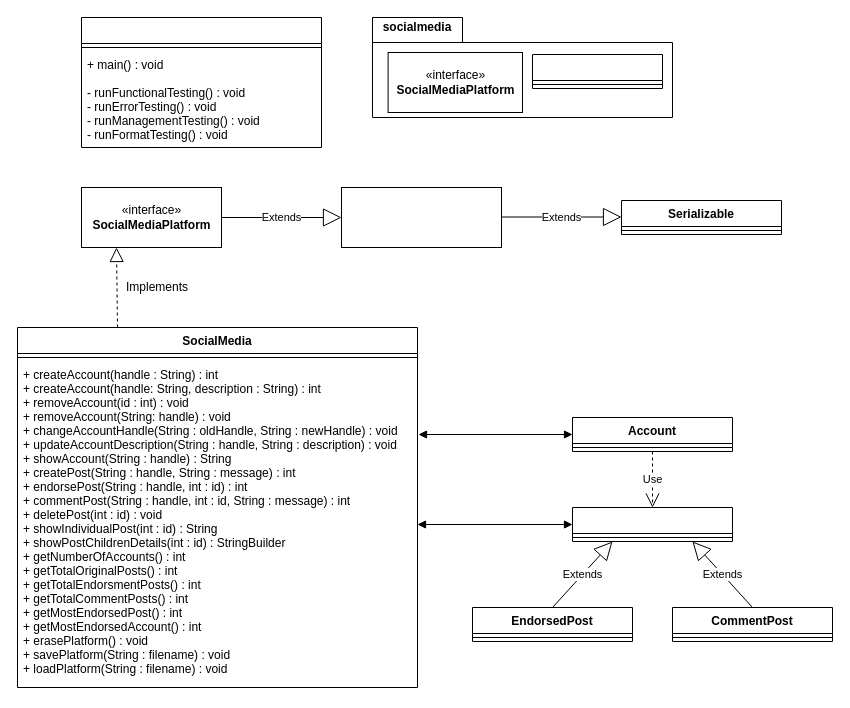
Image size: 850x708. Some labels were removed from this diagram. The shapes that lost their labels are listed below. From the top down, each one's box as (x1, y1, x2, y2) in pixels, then its label:
(80, 16, 322, 148): SocialMediaPlatformTestApp
(532, 54, 662, 88): exception classes
(340, 186, 502, 248): «interface» MiniSocialMediaPlatform
(572, 506, 732, 542): Post
